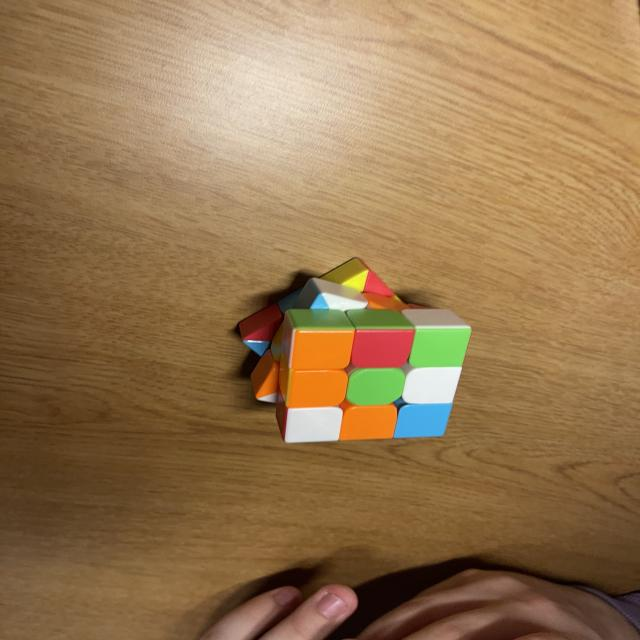Rubiks Cube: (236, 256, 473, 444)
